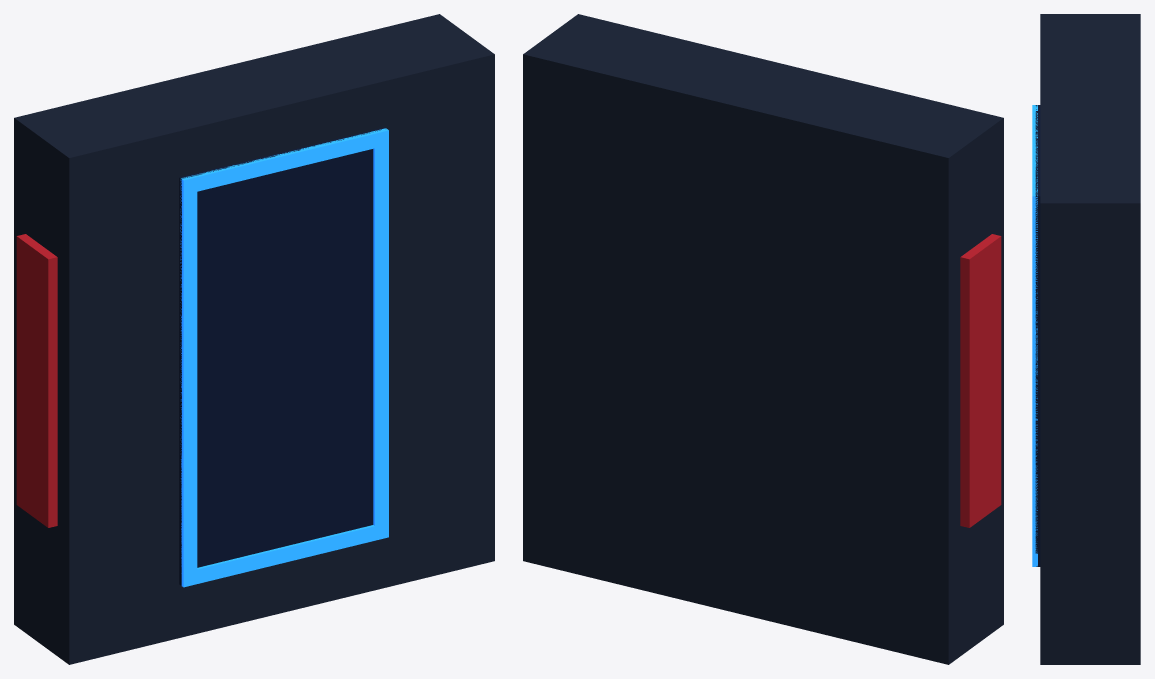
The model's file is data_pad.lod1.glb.
The picture shows the model from 3 angles, left to right: view 1: azimuth 30°, elevation 25°; view 2: azimuth 150°, elevation 25°; view 3: azimuth 270°, elevation 25°; orthographic projection. The views are drawn at different scales.
Visible parts, largest first — view 1: item.data_pad.body; view 2: item.data_pad.body; view 3: item.data_pad.body.
Boxes of the visible parts, x1=… form: item.data_pad.body: x1=14, y1=14, x2=494, y2=664; item.data_pad.body: x1=523, y1=14, x2=1003, y2=664; item.data_pad.body: x1=1032, y1=14, x2=1140, y2=664.
Size of the model in its own units: 0.3703 by 0.4125 by 0.0875.
